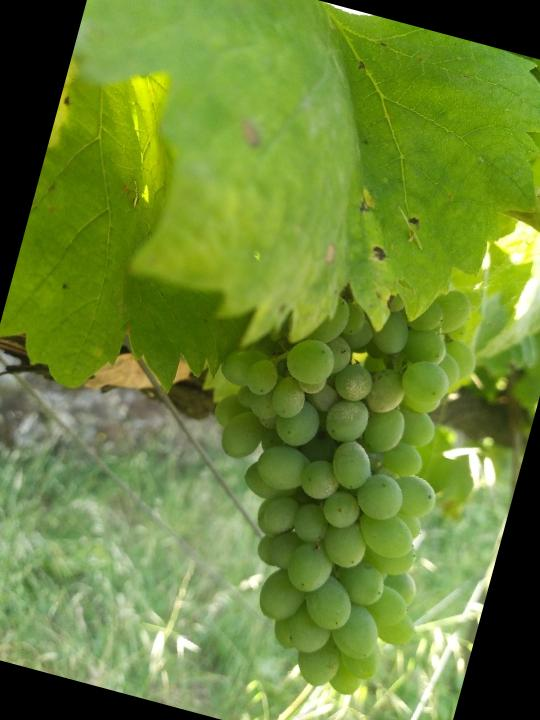grape: (139, 232, 510, 718)
